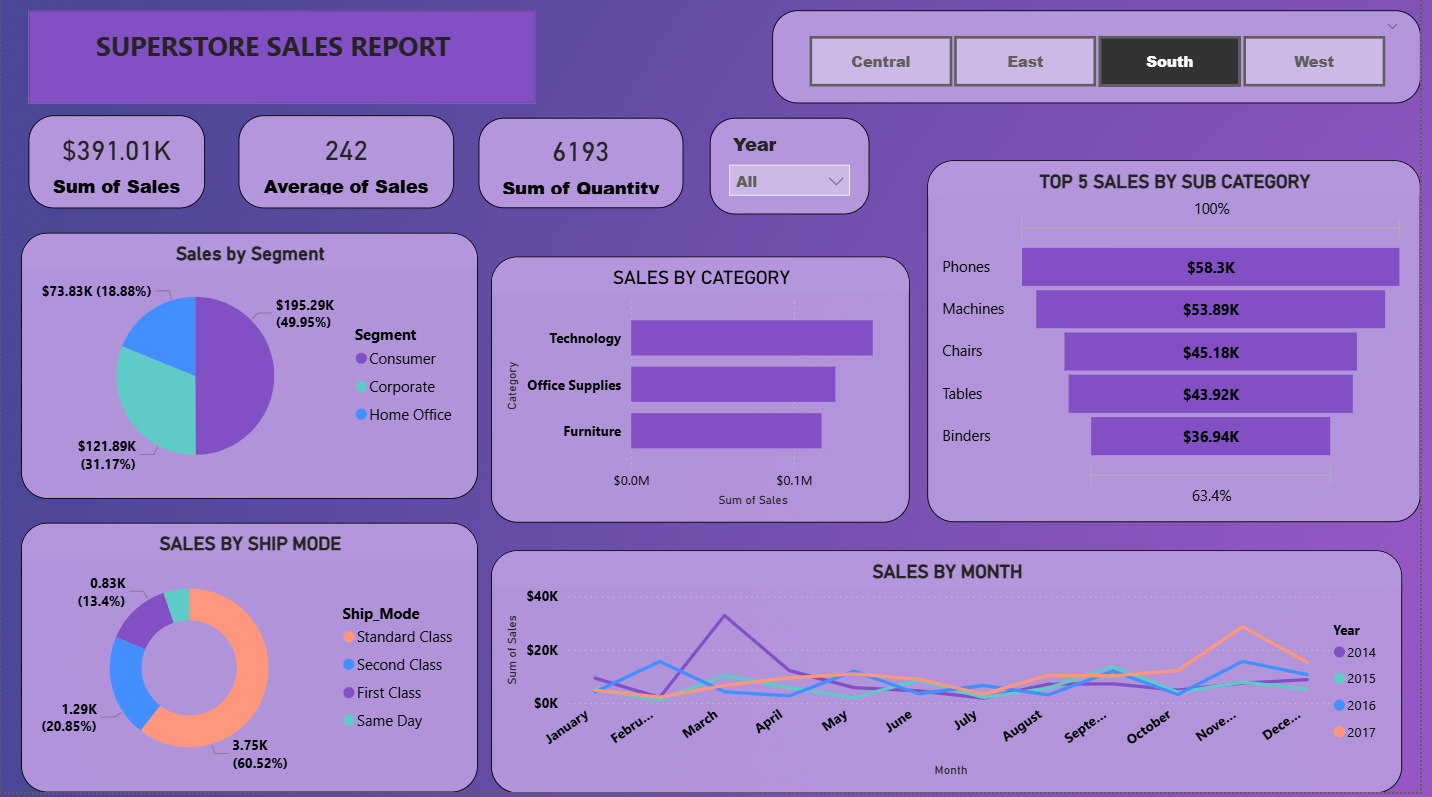

This screenshot's page, from the dashboard's own definition file:
{"tool":"powerbi","page":{"name":"dashboard","canvas":[1280,720],"ordinal":0},"visuals":[{"type":"card","fields":{"Values":["Sum(superstore_cleaned.Sales)"]},"box":[24.5,108.8,159,84.4],"z":0},{"type":"shape","box":[24.5,14.7,457.3,84.4],"z":1000},{"type":"card","fields":{"Values":["Avg(superstore_cleaned.Sales)"]},"box":[214,108.8,194.4,84.4],"z":2000},{"type":"card","fields":{"Values":["Sum(superstore_cleaned.Quantity)"]},"box":[430.4,111.3,184.6,81.9],"z":3000},{"type":"textbox","box":[61.1,25.7,369.3,64.8],"z":4000},{"type":"slicer","fields":{"Values":["superstore_cleaned.Region"]},"box":[695.8,14.7,584.5,84.4],"z":5000},{"type":"pieChart","title":" Sales by Segment","fields":{"Category":["superstore_cleaned.Segment"],"Y":["Sum(superstore_cleaned.Sales)"]},"box":[18.3,215.2,412.1,239.7],"z":6000},{"type":"donutChart","title":"SALES BY SHIP MODE","fields":{"Category":["superstore_cleaned.Ship_Mode"],"Y":["Sum(superstore_cleaned.Quantity)"]},"box":[18.3,476.9,412.1,243.3],"z":7000},{"type":"lineChart","title":"SALES BY MONTH","fields":{"Category":["superstore_cleaned.Order_Date.Variation.Date Hierarchy.Month"],"Y":["Sum(superstore_cleaned.Sales)"],"Series":["superstore_cleaned.Order_Date.Variation.Date Hierarchy.Year"]},"box":[441.4,501.4,821.7,218.9],"z":8000},{"type":"clusteredBarChart","title":"SALES BY CATEGORY","fields":{"Category":["superstore_cleaned.Category"],"Y":["Sum(superstore_cleaned.Sales)"]},"box":[441.4,237.2,377.9,239.7],"z":9000},{"type":"funnel","title":"TOP 5 SALES BY SUB CATEGORY","fields":{"Category":["superstore_cleaned.Sub_Category"],"Y":["Sum(superstore_cleaned.Sales)"]},"box":[835.2,150.4,445.1,326.5],"z":9001},{"type":"slicer","fields":{"Values":["superstore_cleaned.Order_Date.Variation.Date Hierarchy.Year"]},"box":[639.5,111.3,144.3,86.8],"z":9002}]}

Visuals, with their boxes in screenshot pixels (x1, y1, x2, y2), scaled from the page's 1280x720 canvas onto the 1432x797 screenshot:
card - Sum(superstore_cleaned.Sales): [x1=27, y1=120, x2=205, y2=214]
shape: [x1=27, y1=16, x2=539, y2=110]
card - Avg(superstore_cleaned.Sales): [x1=239, y1=120, x2=457, y2=214]
card - Sum(superstore_cleaned.Quantity): [x1=482, y1=123, x2=688, y2=214]
textbox: [x1=68, y1=28, x2=482, y2=100]
slicer - superstore_cleaned.Region: [x1=778, y1=16, x2=1431, y2=110]
" Sales by Segment" pieChart: [x1=20, y1=238, x2=482, y2=504]
"SALES BY SHIP MODE" donutChart: [x1=20, y1=528, x2=482, y2=796]
"SALES BY MONTH" lineChart: [x1=494, y1=555, x2=1413, y2=796]
"SALES BY CATEGORY" clusteredBarChart: [x1=494, y1=263, x2=917, y2=528]
"TOP 5 SALES BY SUB CATEGORY" funnel: [x1=934, y1=166, x2=1431, y2=528]
slicer - superstore_cleaned.Order_Date.Variation.Date Hierarchy.Year: [x1=715, y1=123, x2=877, y2=219]
